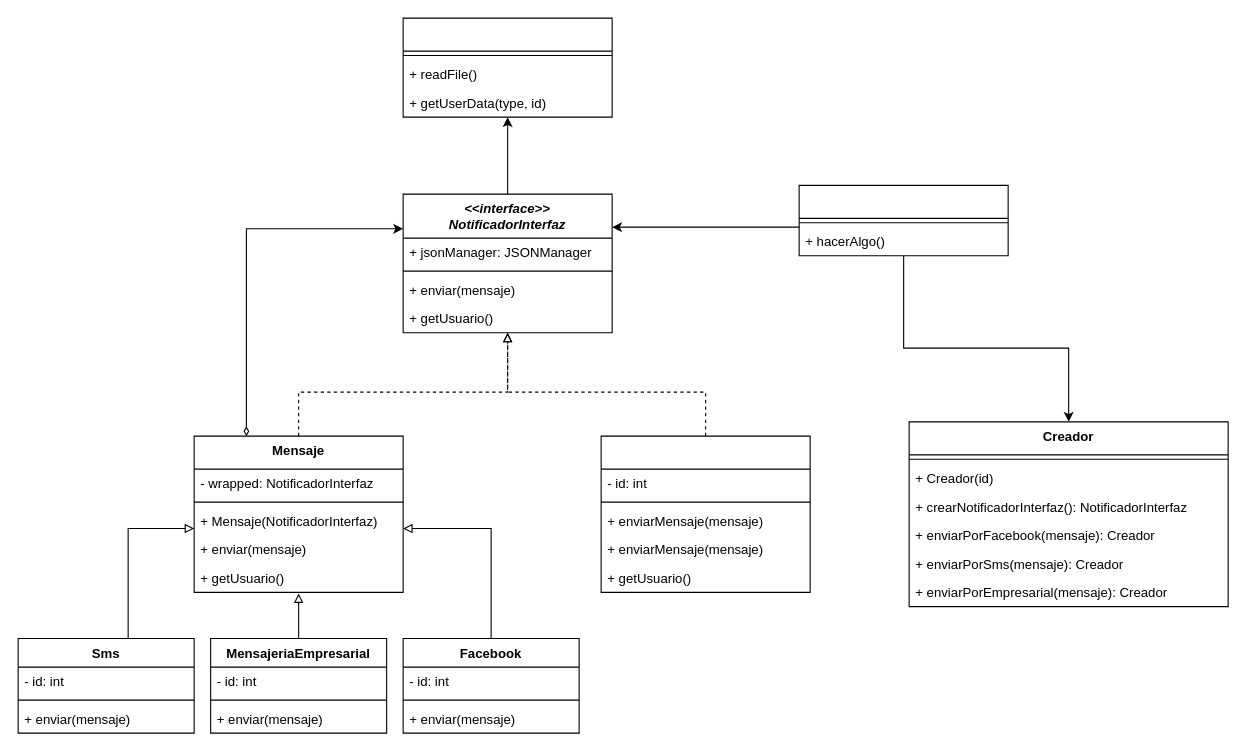
This 1246x751 diagram has some shape labels left out. The box of each missing label's shape, as (x1, y1, x2, y2) in pixels:
Aplicación: (798, 184, 1008, 256)
JSONManager: (402, 17, 612, 117)
Notificador: (600, 435, 810, 592)
